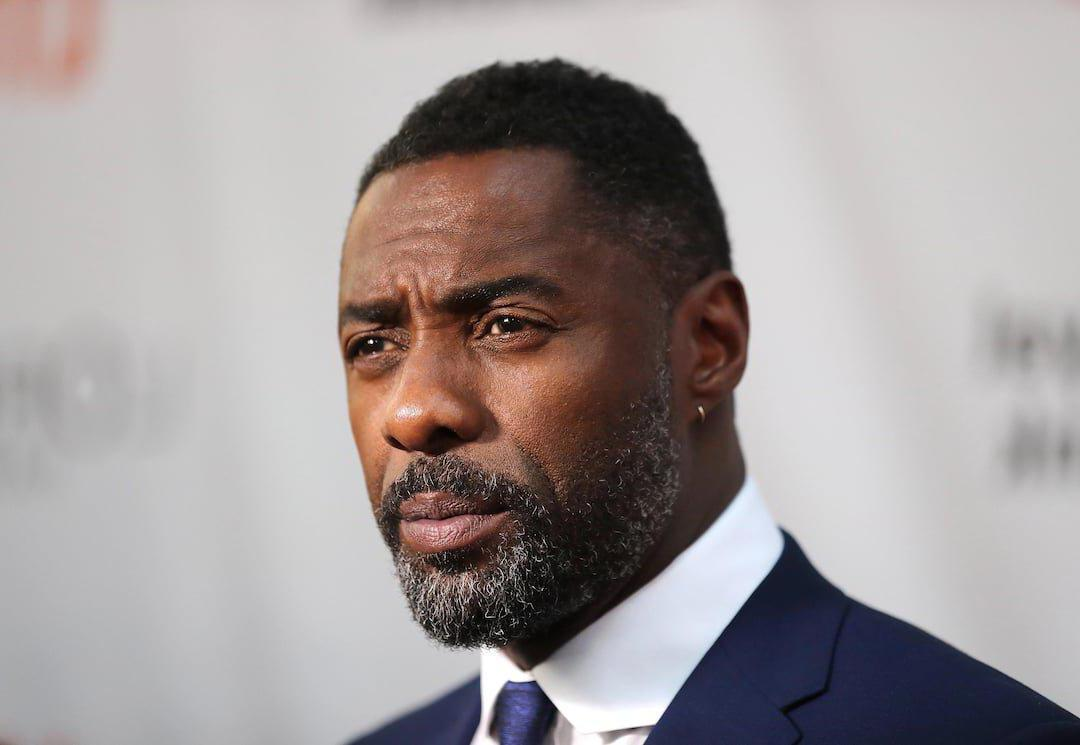Sober: (337, 199, 673, 597)
